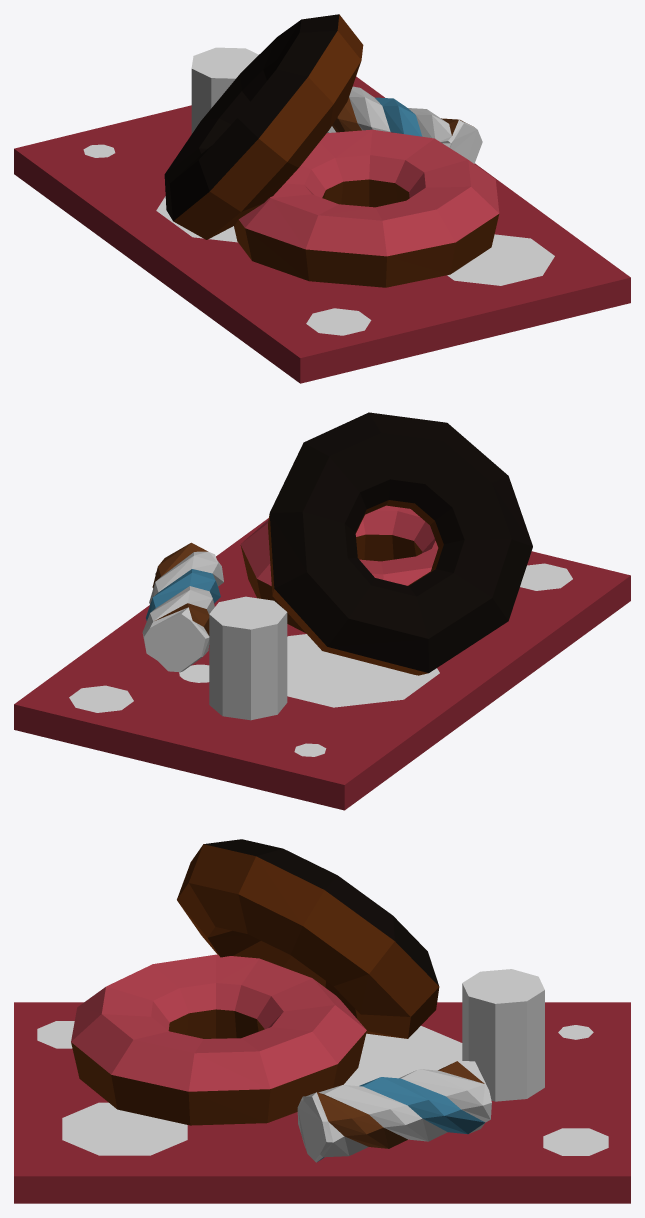
File: W_O_Playground_CandySymbolic_002_L2.fbx
3 renders of one model, top to bottom at view 1: azimuth 30°, elevation 25°; view 2: azimuth 150°, elevation 25°; view 3: azimuth 270°, elevation 25°, orthographic. The views are drawn at different scales.
Visible parts, largest first — view 1: W_O_Playground_CandySymbolic_002_L2; view 2: W_O_Playground_CandySymbolic_002_L2; view 3: W_O_Playground_CandySymbolic_002_L2.
Part boxes in pixels (x1=…): W_O_Playground_CandySymbolic_002_L2: x1=14, y1=14, x2=630, y2=383; W_O_Playground_CandySymbolic_002_L2: x1=14, y1=412, x2=630, y2=810; W_O_Playground_CandySymbolic_002_L2: x1=14, y1=839, x2=630, y2=1203.
Bounding box in the file's own units: 2.01 × 1.35 × 3.
